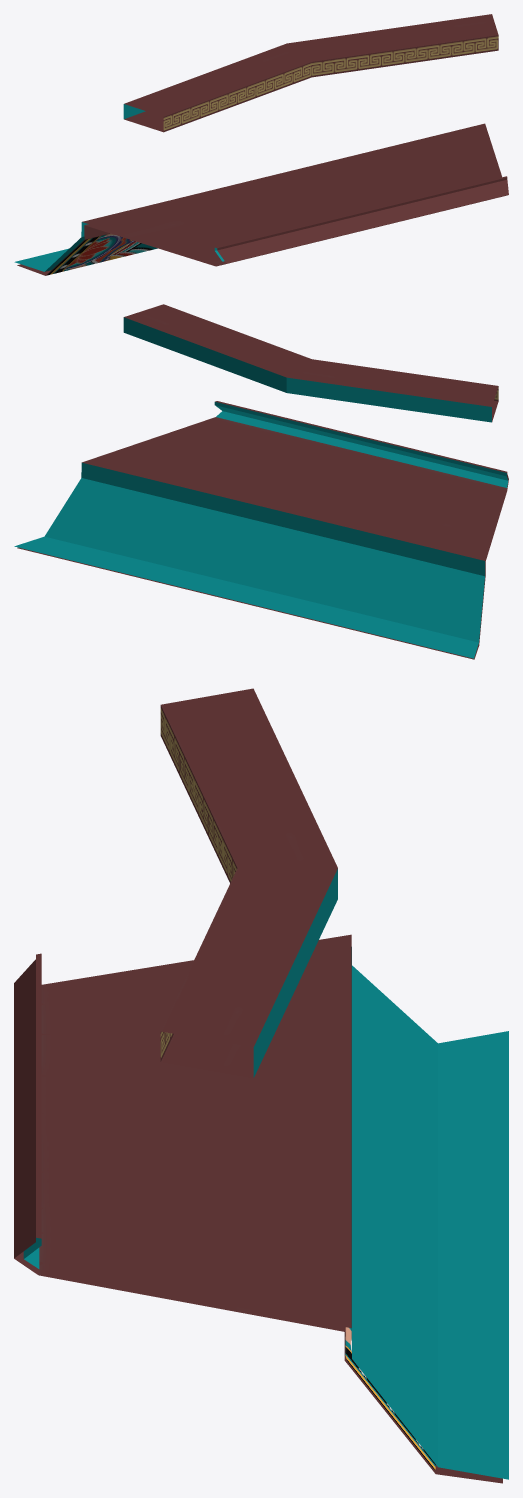
Rendered from living_room_2nddoor_003.fbx.
3 renders of one model, top to bottom at view 1: azimuth 30°, elevation 25°; view 2: azimuth 150°, elevation 25°; view 3: azimuth 270°, elevation 25°, orthographic. The views are drawn at different scales.
Visible parts, largest first — view 1: living_room_2nddoor_003; view 2: living_room_2nddoor_003; view 3: living_room_2nddoor_003.
Part boxes in pixels (box(x1,y1,x2,y2)): living_room_2nddoor_003: box(14, 14, 508, 275); living_room_2nddoor_003: box(14, 304, 508, 659); living_room_2nddoor_003: box(14, 688, 508, 1483).
Size of the model in its own units: 1243 by 509 by 579.
